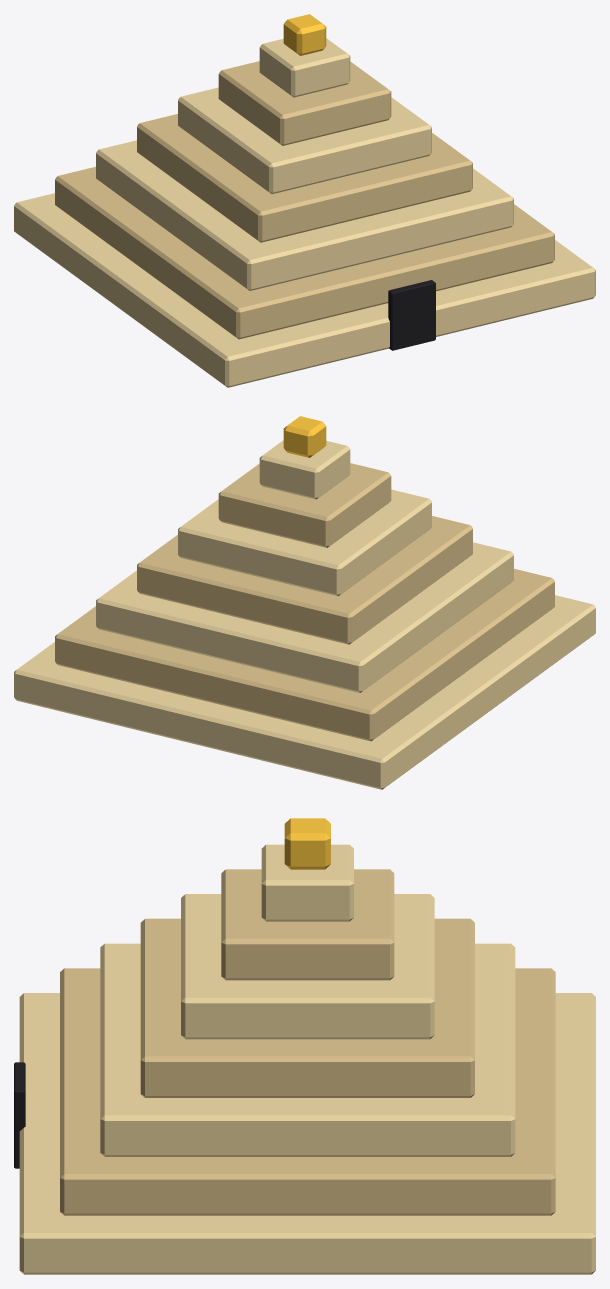
The picture shows the model from 3 angles, top to bottom: view 1: azimuth 30°, elevation 25°; view 2: azimuth 150°, elevation 25°; view 3: azimuth 270°, elevation 25°; orthographic projection. The views are drawn at different scales.
Parts seen in each view (by area): view 1: Pyramid; view 2: Pyramid; view 3: Pyramid.
Boxes of the visible parts, x1,y1,x2,y2 form: Pyramid: [14, 14, 595, 387]; Pyramid: [14, 416, 595, 789]; Pyramid: [14, 818, 595, 1274].
Size of the model in its own units: 20 by 12.6 by 20.2.
1 material, 1 textured.
